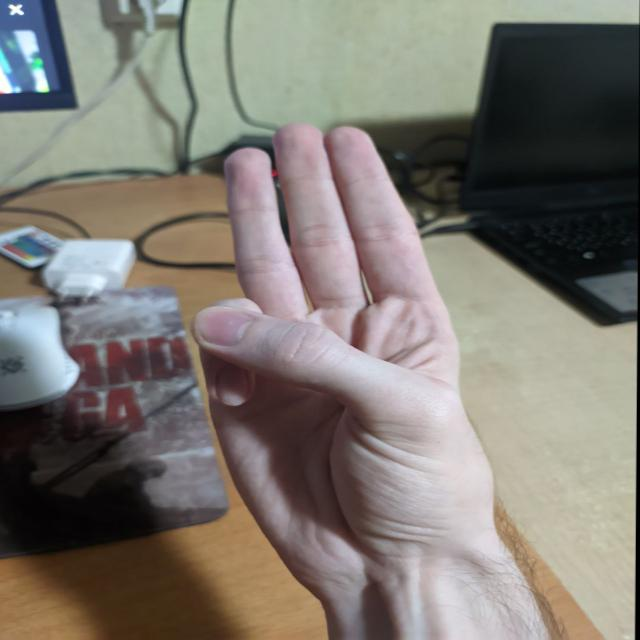sh: (170, 120, 509, 550)
